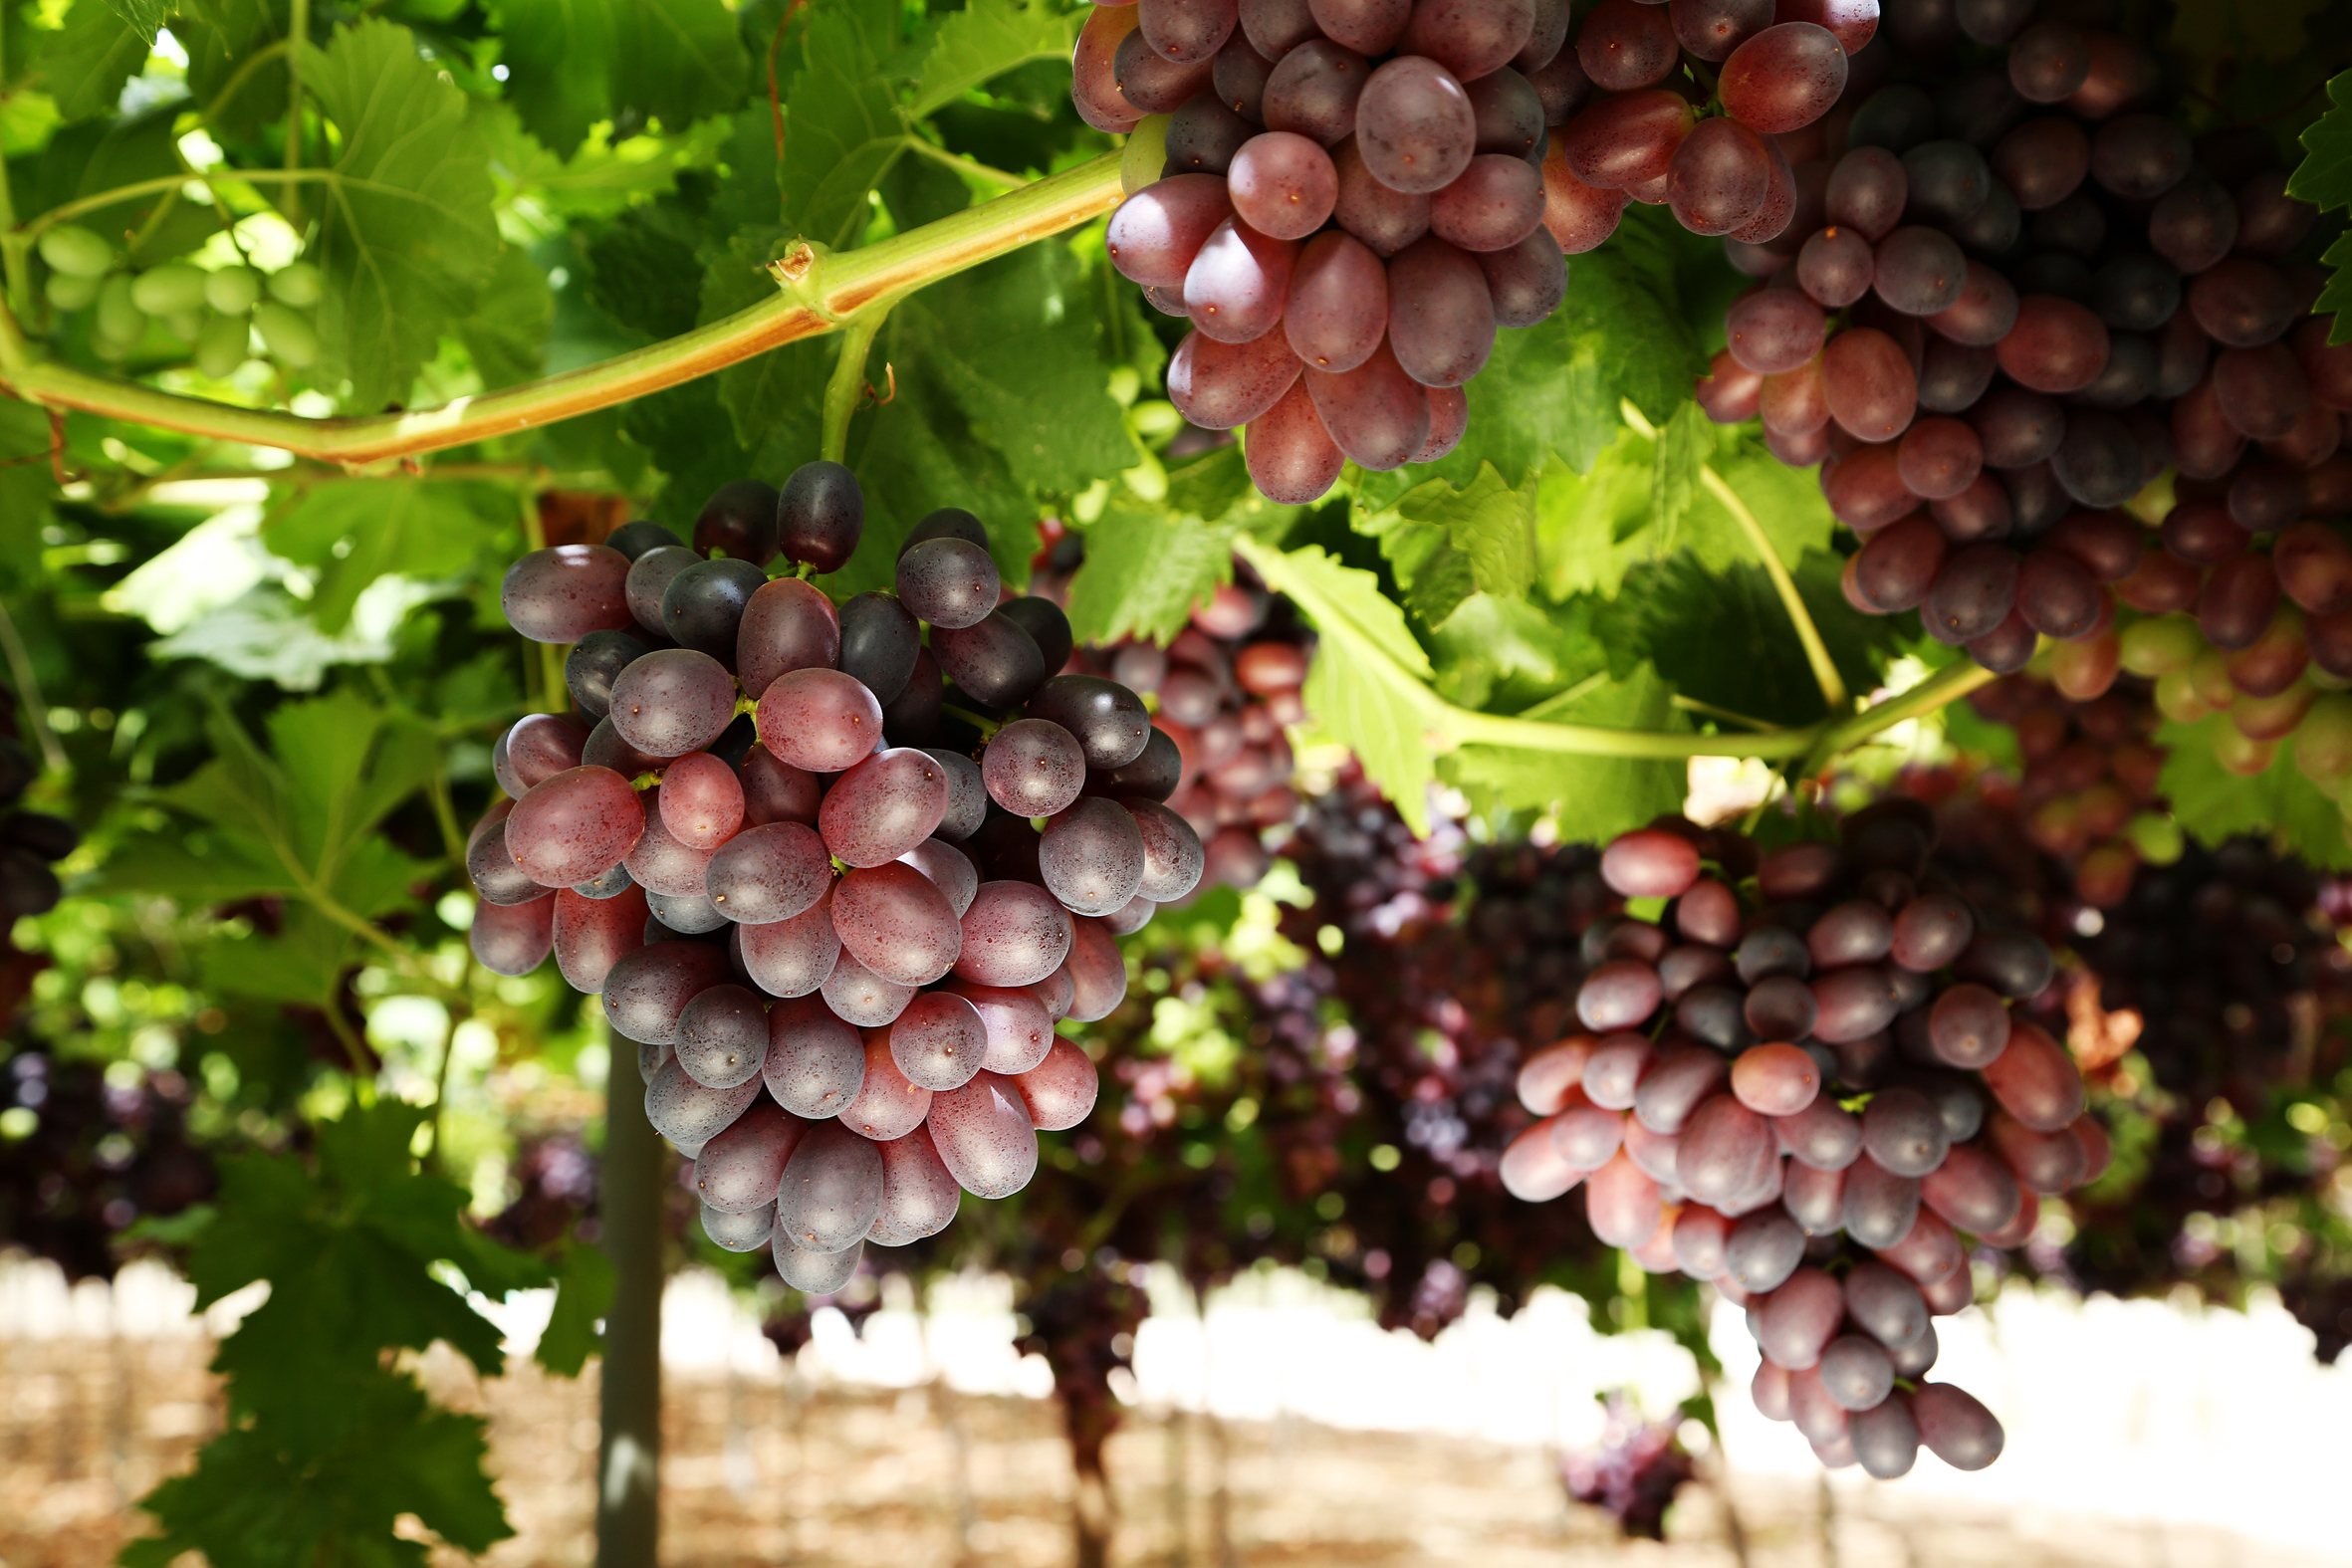Red Grapes: (438, 451, 1222, 1333), (1612, 10, 2352, 691), (1528, 821, 2083, 1498), (1045, 16, 1634, 492)
